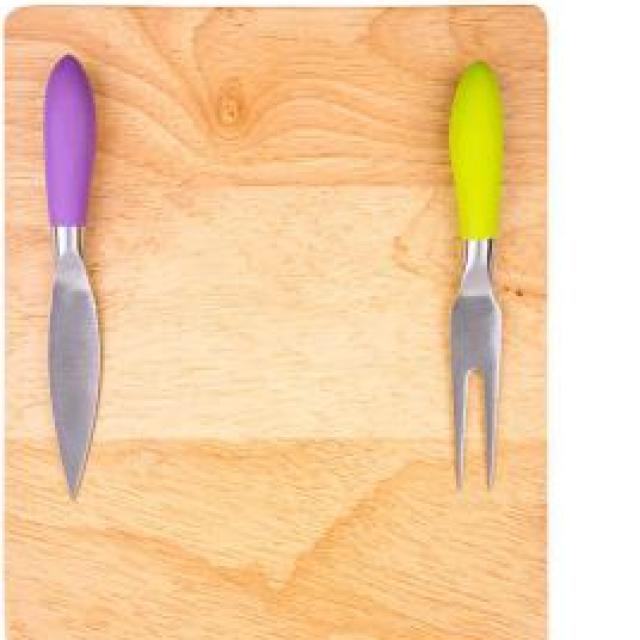knife: (43, 45, 100, 511)
